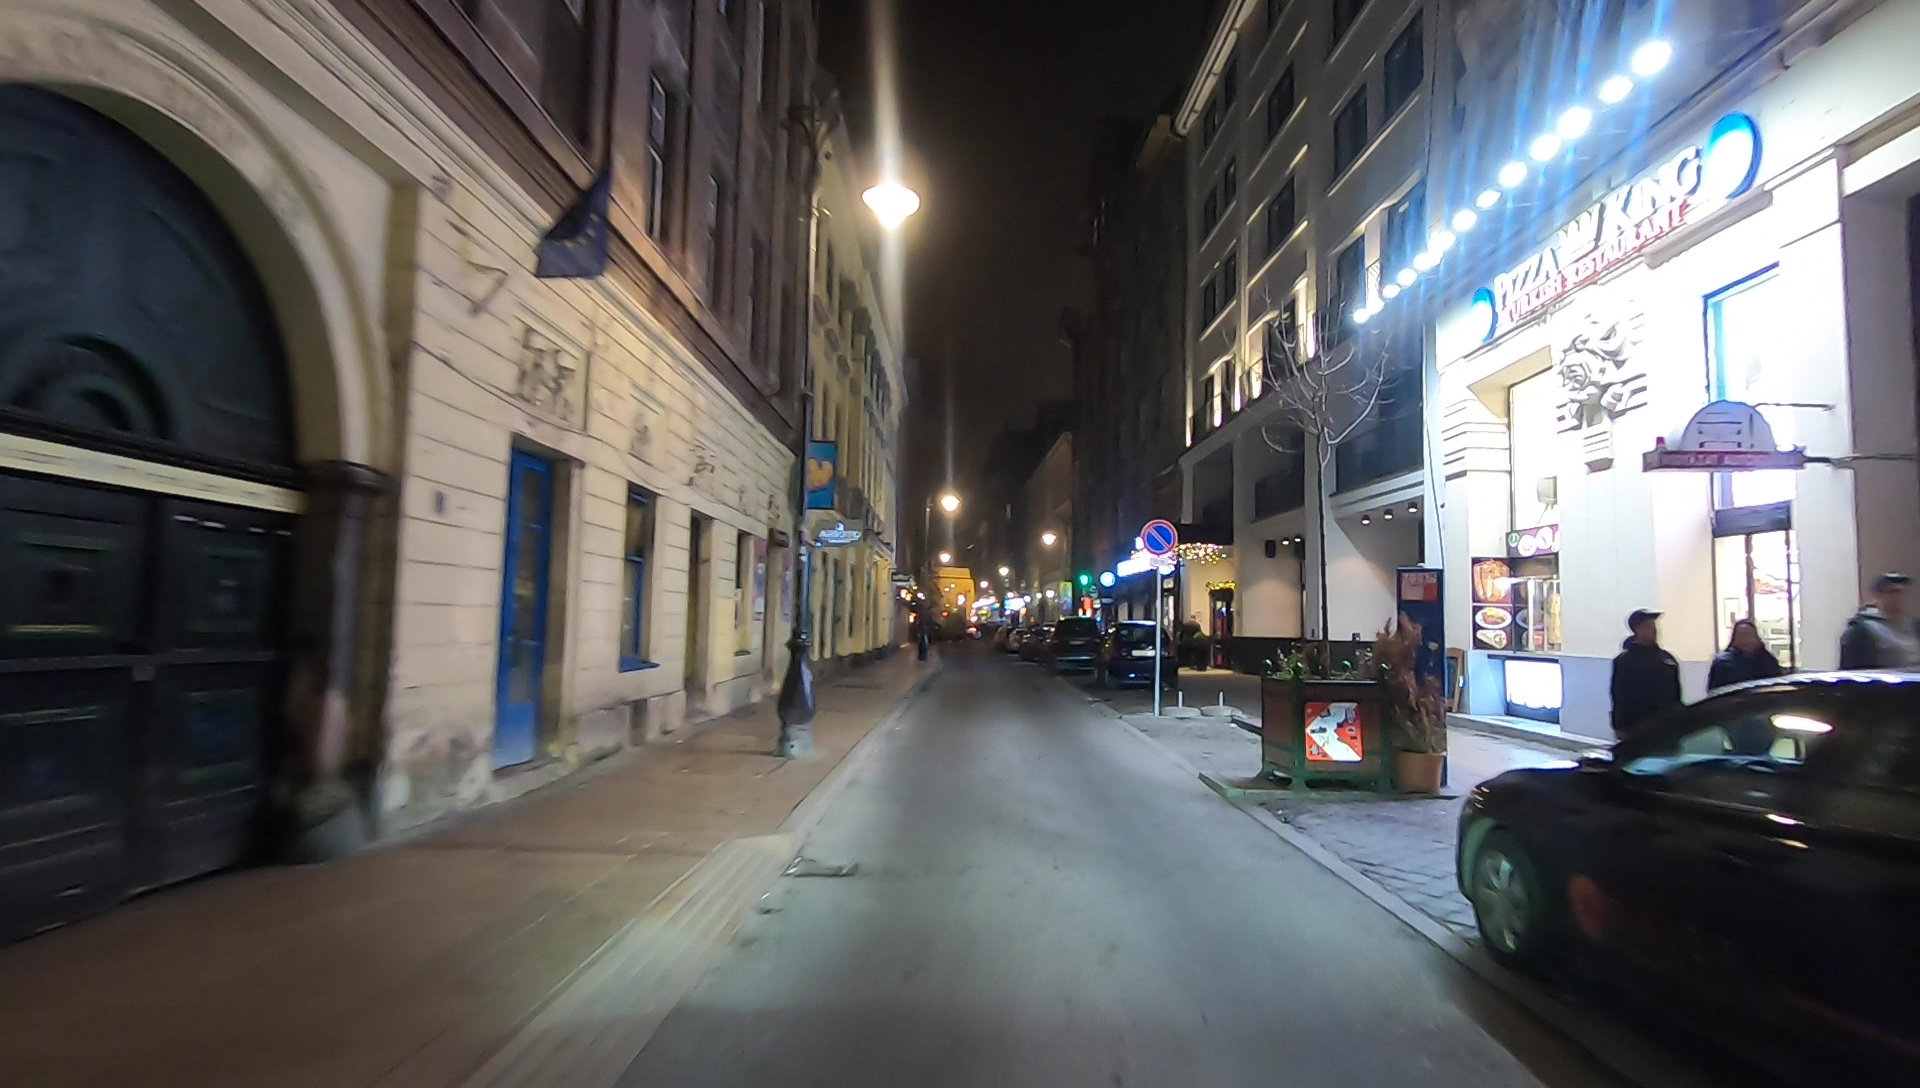person: (1838, 573, 1920, 828), (1714, 615, 1791, 806), (1606, 611, 1689, 786)
